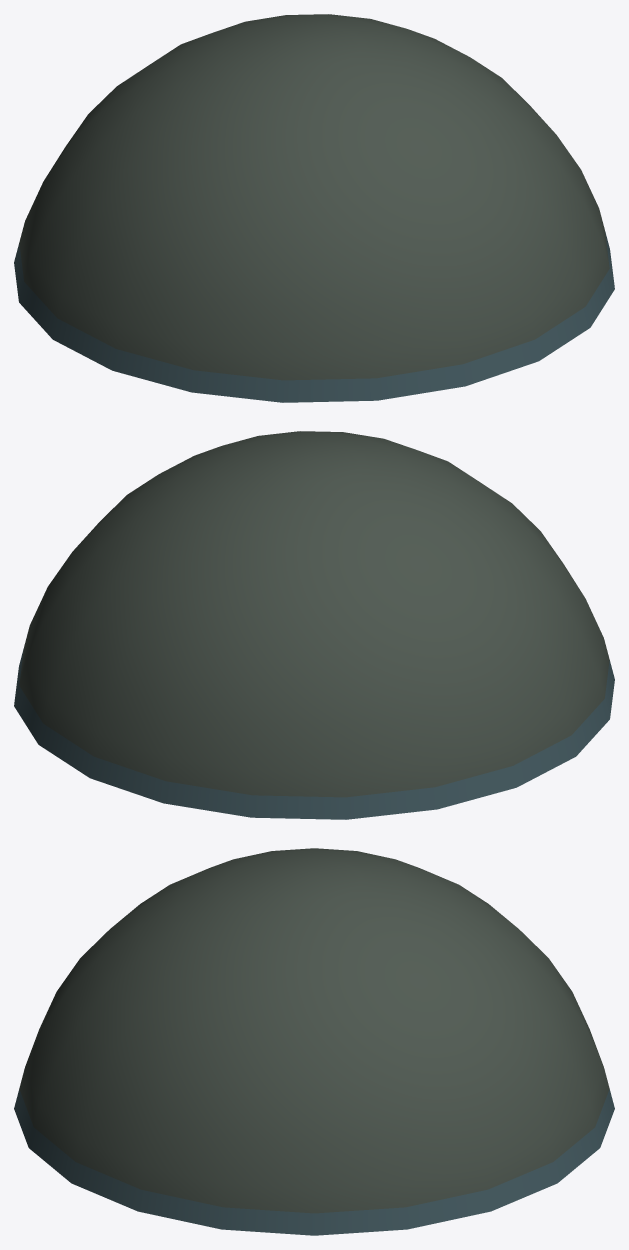
Rendered from Half_Sphere_Shield.fbx.
3 views of the same model, one above another, from view 1: azimuth 30°, elevation 25°; view 2: azimuth 150°, elevation 25°; view 3: azimuth 270°, elevation 25° (orthographic).
Visible parts, largest first — view 1: Half_Sphere_Shield; view 2: Half_Sphere_Shield; view 3: Half_Sphere_Shield.
Part boxes in pixels (x1,y1,x2,y2): Half_Sphere_Shield: (14,14,614,402); Half_Sphere_Shield: (14,431,614,819); Half_Sphere_Shield: (14,848,614,1235).
Bounding box in the file's own units: 5.44 × 2.33 × 5.44.
